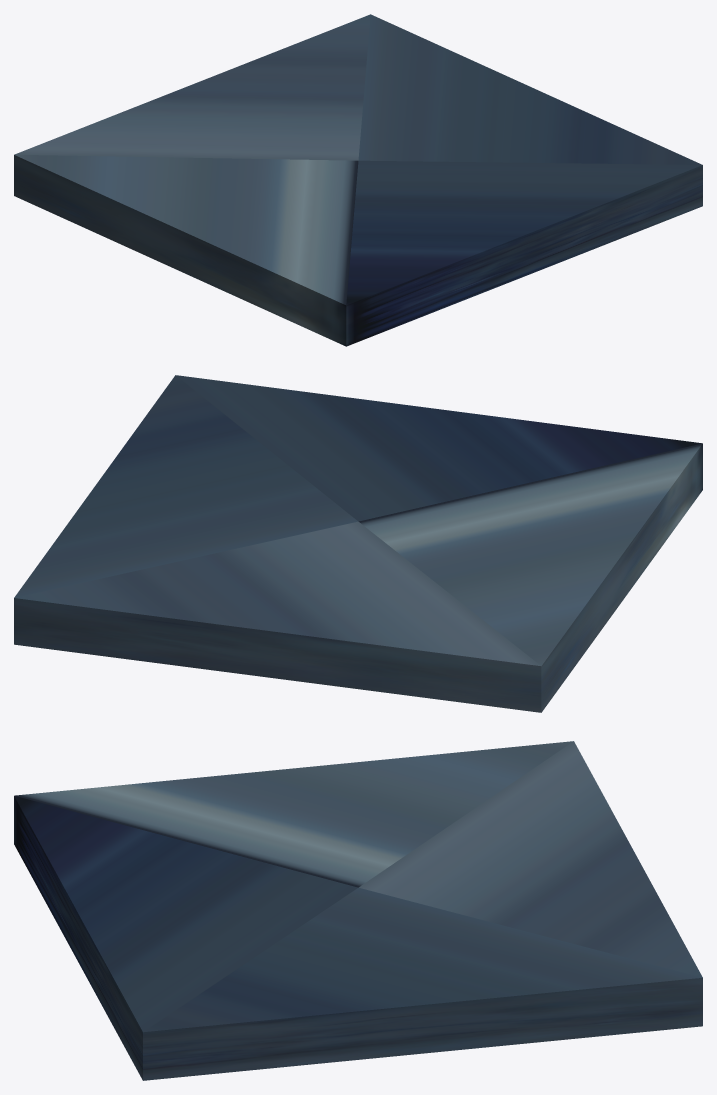
Rendered from TheOctagon_CntStr_Sup_8.gltf.
3 renders of one model, top to bottom at view 1: azimuth 30°, elevation 25°; view 2: azimuth 150°, elevation 25°; view 3: azimuth 270°, elevation 25°, orthographic. The views are drawn at different scales.
Visible parts, largest first — view 1: TheOctagon_CntStr_Sup_8; view 2: TheOctagon_CntStr_Sup_8; view 3: TheOctagon_CntStr_Sup_8.
Part boxes in pixels (left/top/right/bottom): TheOctagon_CntStr_Sup_8: left=14, top=14, right=702, bottom=346; TheOctagon_CntStr_Sup_8: left=14, top=375, right=702, bottom=712; TheOctagon_CntStr_Sup_8: left=14, top=741, right=702, bottom=1080.
Size of the model in its own units: 11.78 by 0.9164 by 11.78.
1 material, 1 textured.
